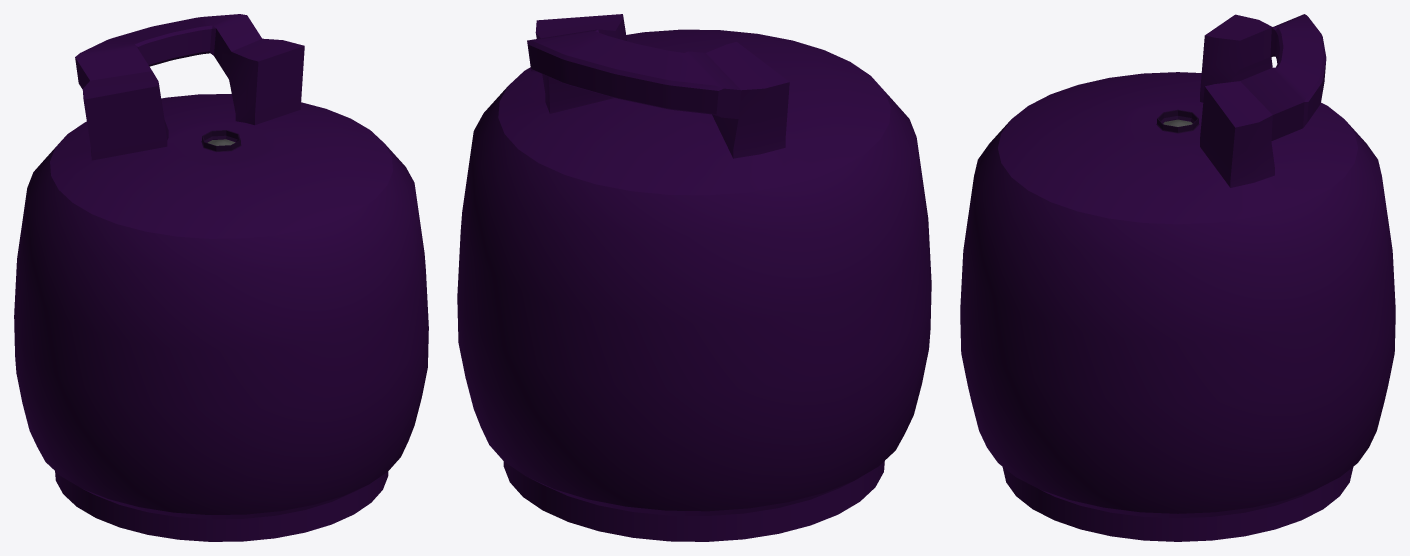
File: gas6.glb
The picture shows the model from 3 angles, left to right: view 1: azimuth 30°, elevation 25°; view 2: azimuth 150°, elevation 25°; view 3: azimuth 270°, elevation 25°; orthographic projection. The views are drawn at different scales.
Visible parts, largest first — view 1: Gas6; view 2: Gas6; view 3: Gas6.
Boxes of the visible parts, box(x1,y1,x2,y2) form: Gas6: box(14, 14, 428, 541); Gas6: box(457, 14, 931, 541); Gas6: box(960, 14, 1395, 541).
Bounding box in the file's own units: 2 × 2.14 × 2.
